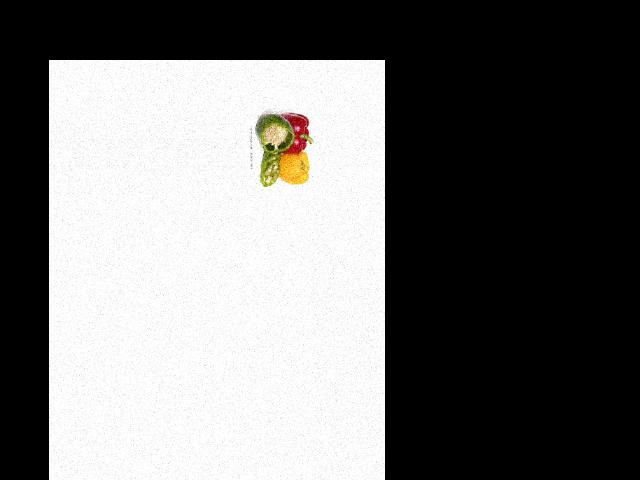bell_pepper: (258, 110, 295, 153)
